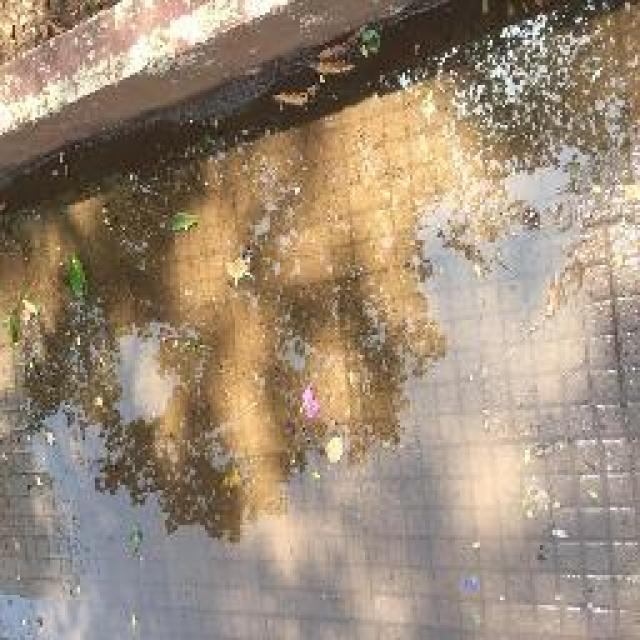puddle: (1, 2, 640, 640)
